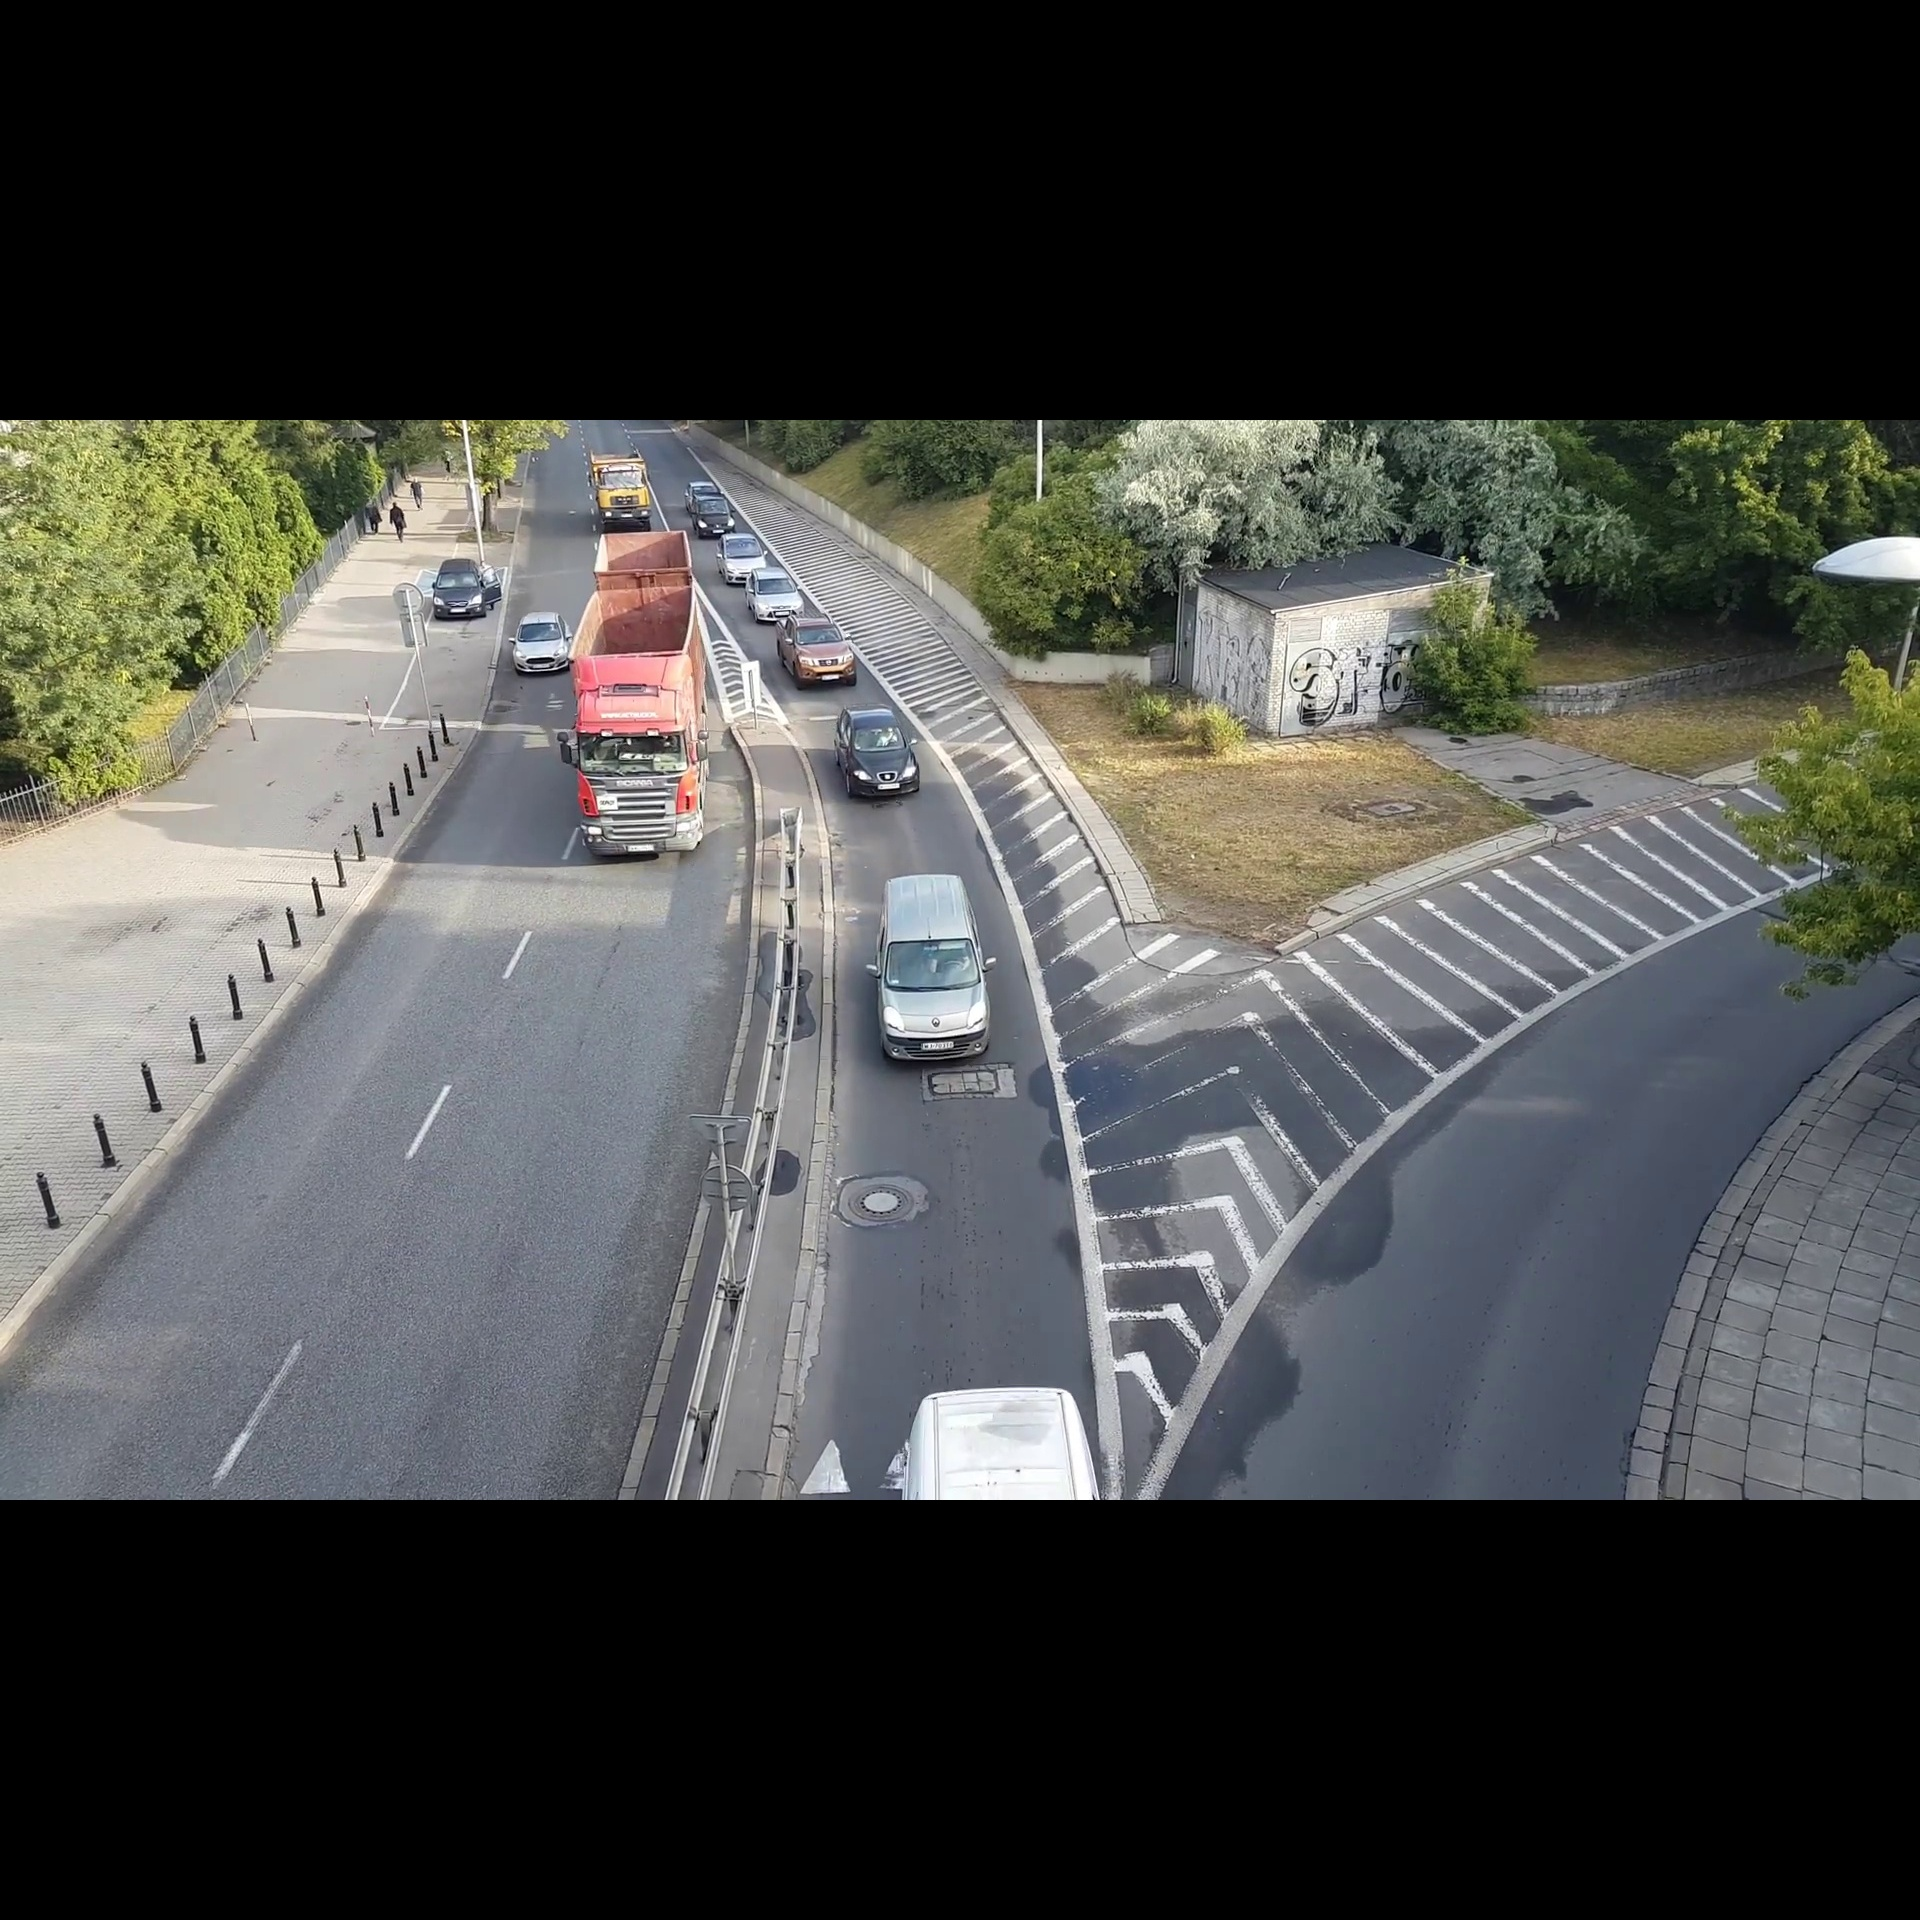vehicle: (570, 587, 723, 867), (855, 863, 999, 1076), (833, 696, 927, 805), (777, 608, 858, 695), (580, 445, 656, 529), (425, 550, 496, 624), (508, 607, 577, 682), (745, 563, 809, 626), (717, 527, 772, 585), (691, 494, 737, 535), (682, 478, 721, 498)
